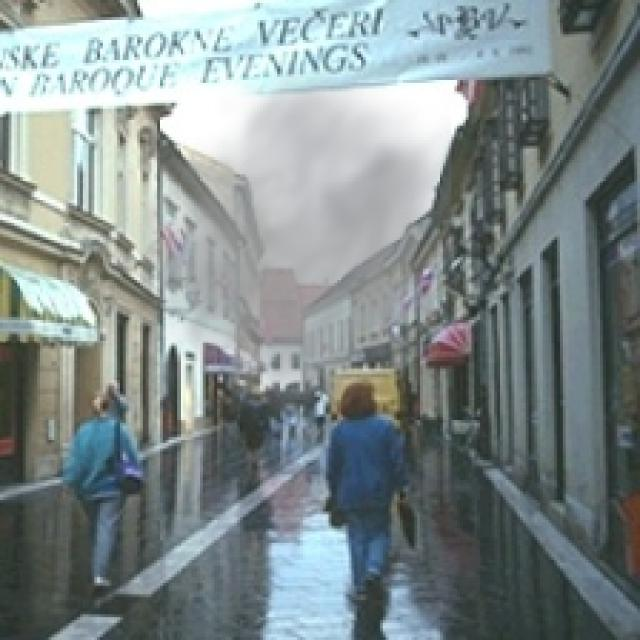smoke: (103, 54, 451, 437)
